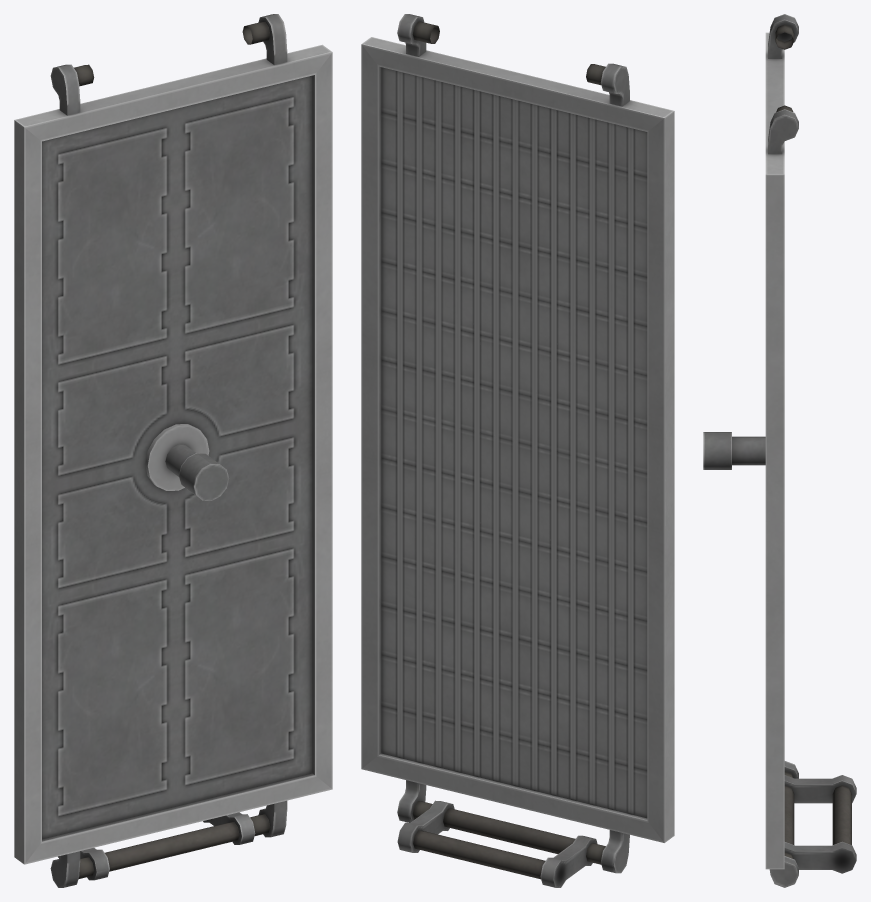
The model's file is radarcentre.obj.
3 renders of one model, left to right at view 1: azimuth 30°, elevation 25°; view 2: azimuth 150°, elevation 25°; view 3: azimuth 270°, elevation 25°, orthographic. The views are drawn at different scales.
Visible parts, largest first — view 1: 1; view 2: 1; view 3: 1.
Part boxes in pixels (x1=…): 1: x1=14, y1=14, x2=332, y2=887; 1: x1=361, y1=14, x2=674, y2=887; 1: x1=703, y1=14, x2=856, y2=887.
Bounding box in the file's own units: 0.875 × 2.22 × 0.4.
Materials: 1 (1 with a texture image).
